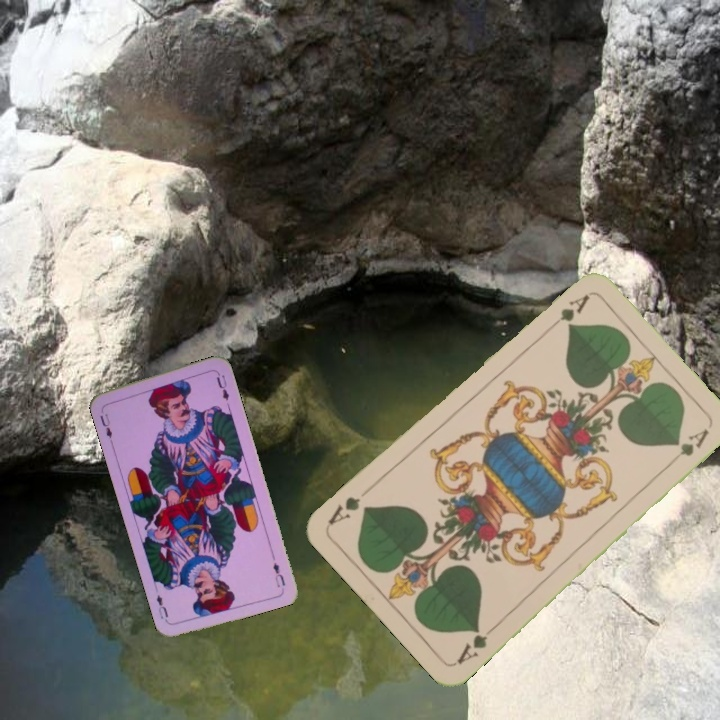EU: (96, 405, 115, 445), (269, 559, 288, 590)
GA: (542, 290, 592, 335), (452, 621, 498, 667)
